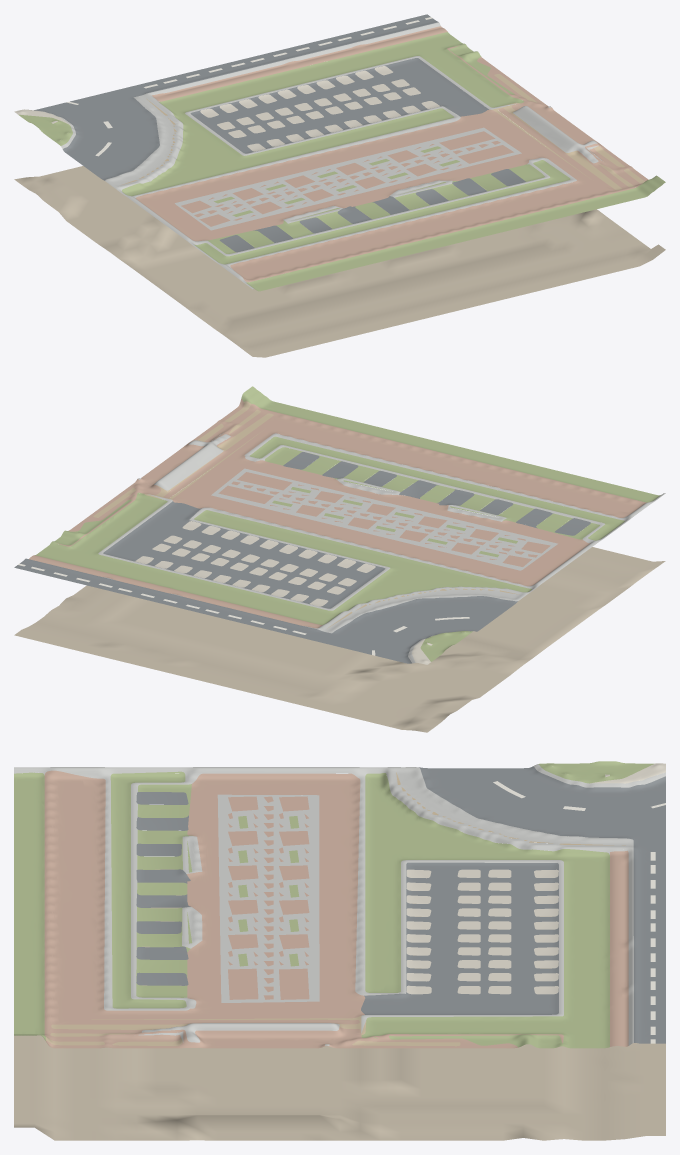
3 views of the same model, one above another, from view 1: azimuth 30°, elevation 25°; view 2: azimuth 150°, elevation 25°; view 3: azimuth 270°, elevation 25° (orthographic). The views are drawn at different scales.
Visible parts, largest first — view 1: s_-7_-3__soil, s_-7_-3__brick_paving, s_-7_-3__grass, s_-7_-3__asphalt, s_-7_-3__stone_paving, s_-7_-3__paving, s_-7_-3__timber_deck, s_-7_-3__white_marking; view 2: s_-7_-3__soil, s_-7_-3__brick_paving, s_-7_-3__grass, s_-7_-3__asphalt, s_-7_-3__stone_paving, s_-7_-3__paving, s_-7_-3__timber_deck, s_-7_-3__white_marking; view 3: s_-7_-3__soil, s_-7_-3__brick_paving, s_-7_-3__grass, s_-7_-3__asphalt, s_-7_-3__stone_paving, s_-7_-3__paving, s_-7_-3__timber_deck, s_-7_-3__white_marking.
Boxes of the visible parts, <box> form: s_-7_-3__soil: <box>14,166,665,357</box>; s_-7_-3__brick_paving: <box>135,26,648,282</box>; s_-7_-3__grass: <box>18,32,665,291</box>; s_-7_-3__asphalt: <box>34,14,525,252</box>; s_-7_-3__stone_paving: <box>31,22,603,289</box>; s_-7_-3__paving: <box>14,66,439,151</box>; s_-7_-3__timber_deck: <box>122,74,644,190</box>; s_-7_-3__white_marking: <box>66,17,432,156</box>; s_-7_-3__soil: <box>14,547,665,732</box>; s_-7_-3__brick_paving: <box>29,399,646,628</box>; s_-7_-3__grass: <box>35,386,660,661</box>; s_-7_-3__asphalt: <box>14,452,590,663</box>; s_-7_-3__stone_paving: <box>28,433,665,663</box>; s_-7_-3__paving: <box>135,521,432,664</box>; s_-7_-3__timber_deck: <box>93,401,519,628</box>; s_-7_-3__white_marking: <box>18,563,469,655</box>; s_-7_-3__soil: <box>14,869,665,1140</box>; s_-7_-3__brick_paving: <box>44,770,628,1048</box>; s_-7_-3__grass: <box>14,761,654,1048</box>; s_-7_-3__asphalt: <box>136,766,665,1043</box>; s_-7_-3__stone_paving: <box>14,764,665,1045</box>; s_-7_-3__paving: <box>406,763,665,994</box>; s_-7_-3__timber_deck: <box>46,772,625,1046</box>; s_-7_-3__white_marking: <box>493,781,665,1043</box>.
Size of the model in its own units: 128 by 23.01 by 128.
